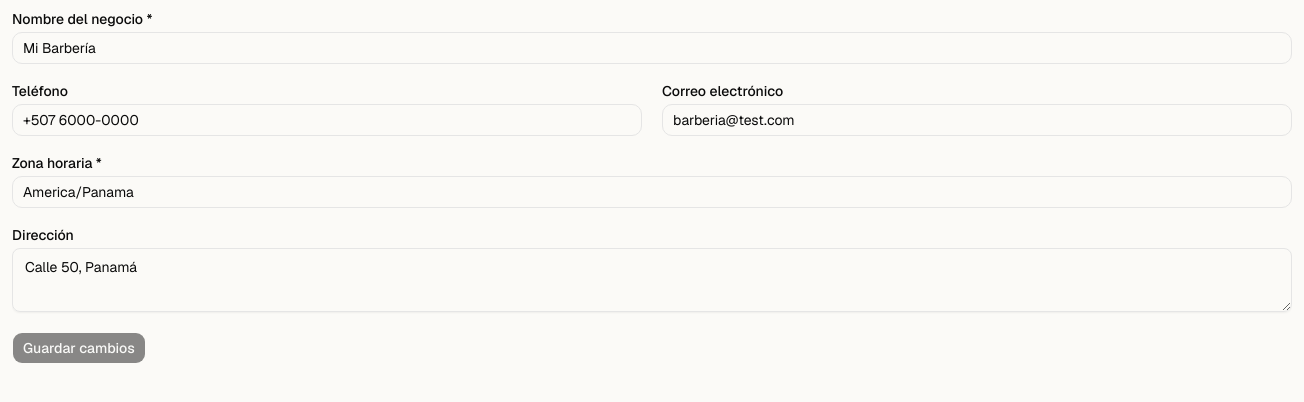
Test: EditBusinessForm — validación › muestra error cuando el nombre está vacío
This screenshot has width=1304, height=402.
Clear the field labelled "Nombre del negocio *" at x=652, y=48, box [12, 32, 1292, 64]
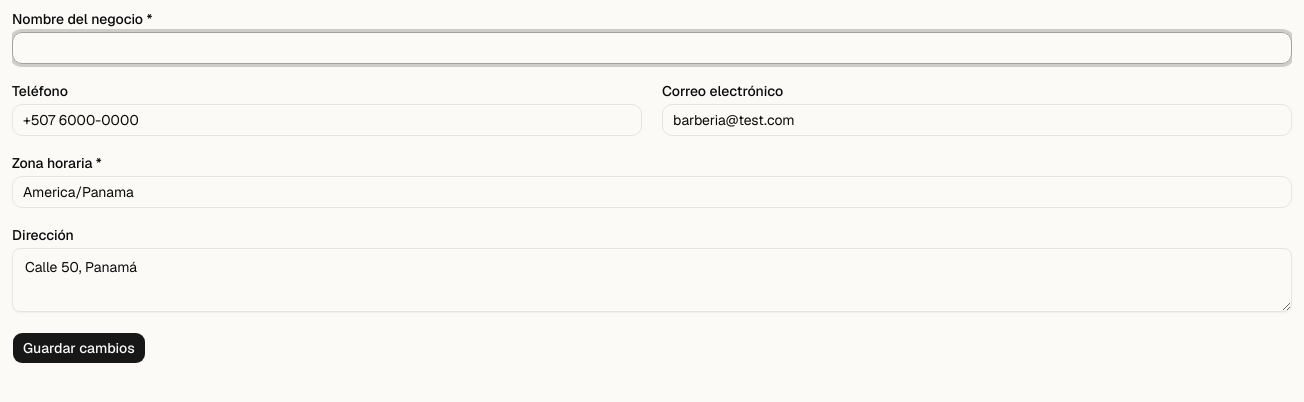
Click the button "Guardar cambios" at x=79, y=348, box [12, 332, 146, 364]
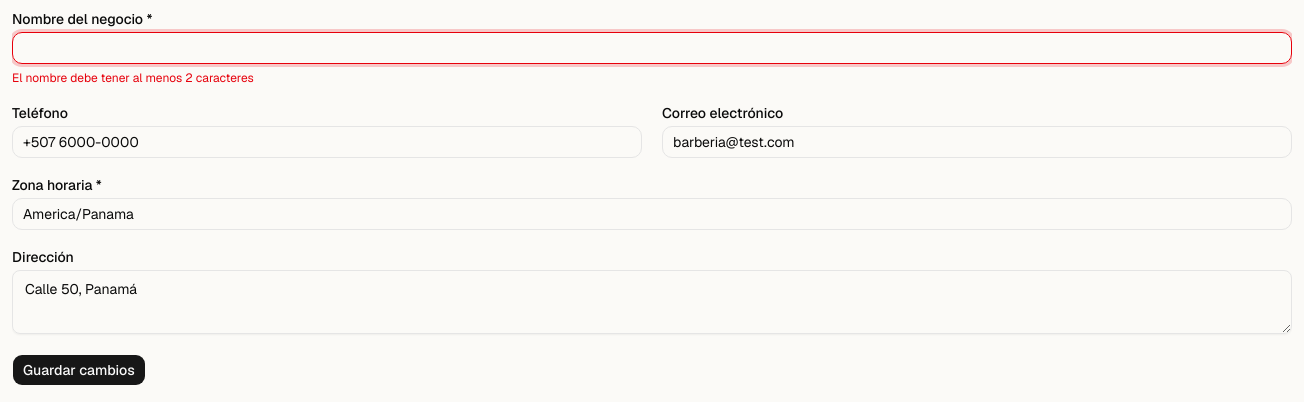
Expected: the text "El nombre debe tener al menos 2 caracteres" is shown, [12, 70, 254, 86]
